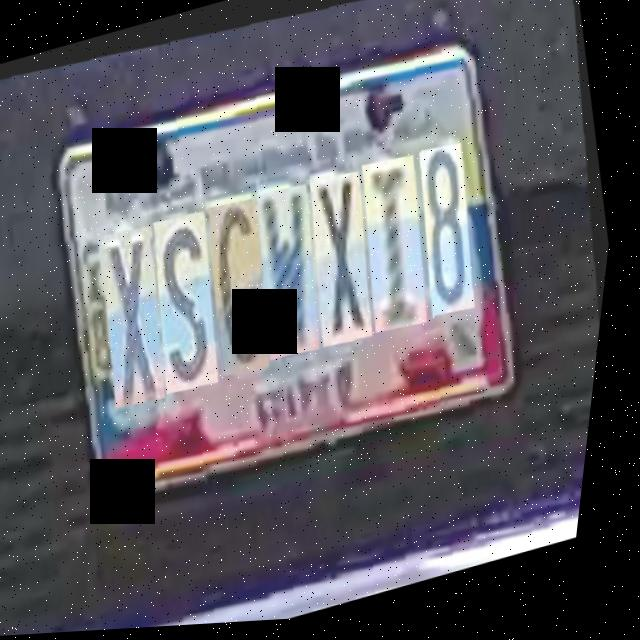8: (403, 134, 502, 316)
G: (192, 185, 300, 374)
I: (345, 145, 456, 332)
S: (137, 199, 249, 390)
W: (241, 172, 349, 358)
X: (86, 212, 197, 405), (293, 160, 401, 345)
